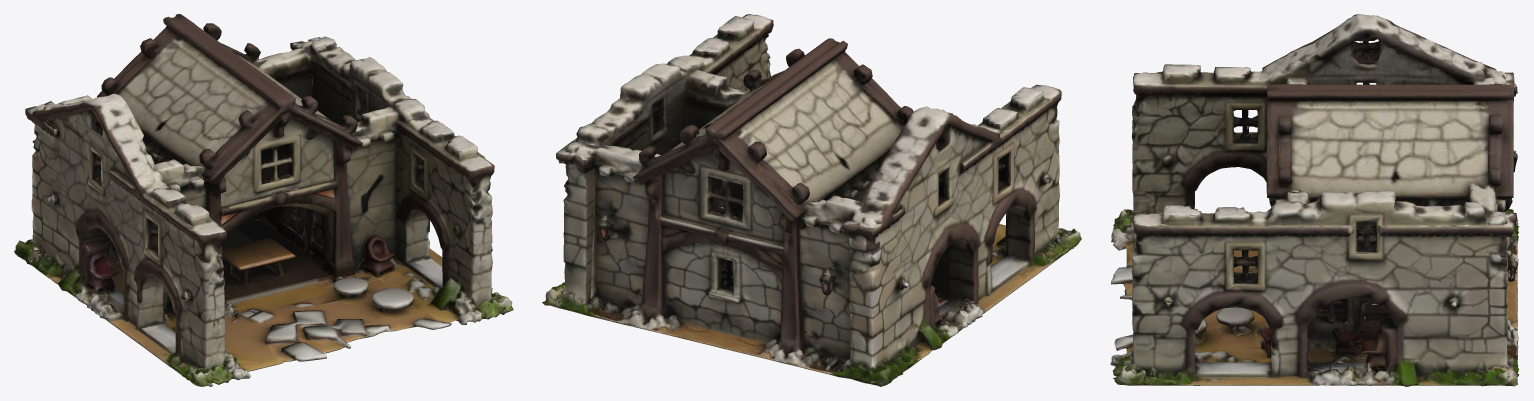
Rendered from Dwarven Building #30_final.glb.
The picture shows the model from 3 angles, left to right: view 1: azimuth 30°, elevation 25°; view 2: azimuth 150°, elevation 25°; view 3: azimuth 270°, elevation 25°; orthographic projection. The views are drawn at different scales.
Bounding box in the file's own units: 1.87 × 1.13 × 1.91.
1 material, 1 textured.
